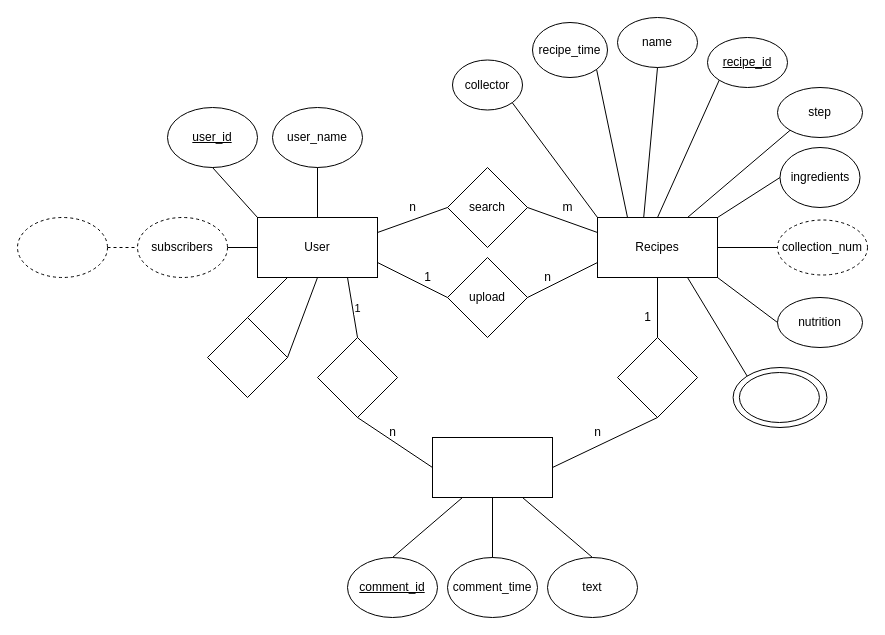
Image size: 885x635. Some labels were removed from this diagram. The shapes that lost their labels are listed below. From the top down, each one's centre as x and y in pixels, then its label:
At point (62, 247): "subscriber_num".
At point (247, 357): "subscript".
At point (357, 377): "publish".
At point (657, 377): "comment".
At point (778, 397): "food_type".
At point (492, 467): "Comments".
